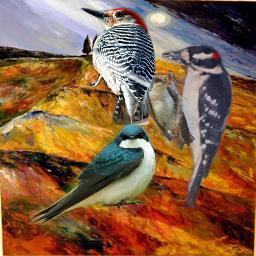Swallow: (29, 124, 157, 225), (145, 75, 195, 151)
Woodpecker: (162, 41, 236, 208), (76, 1, 160, 125)
